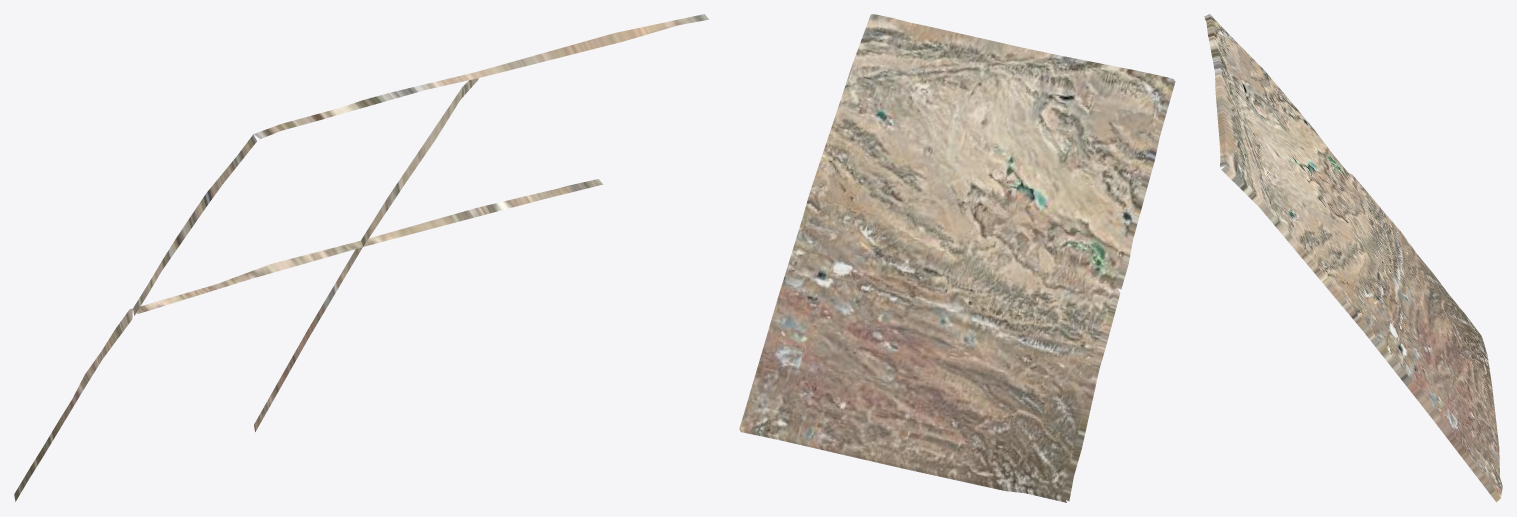
3 renders of one model, left to right at view 1: azimuth 30°, elevation 25°; view 2: azimuth 150°, elevation 25°; view 3: azimuth 270°, elevation 25°, orthographic. The views are drawn at different scales.
Bounding box in the file's own units: 529915 × 511792 × 407745.
Materials: 1 (1 with a texture image).
